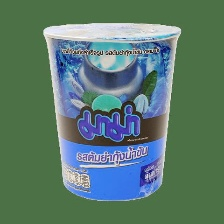paper_cup: (36, 16, 186, 204)
